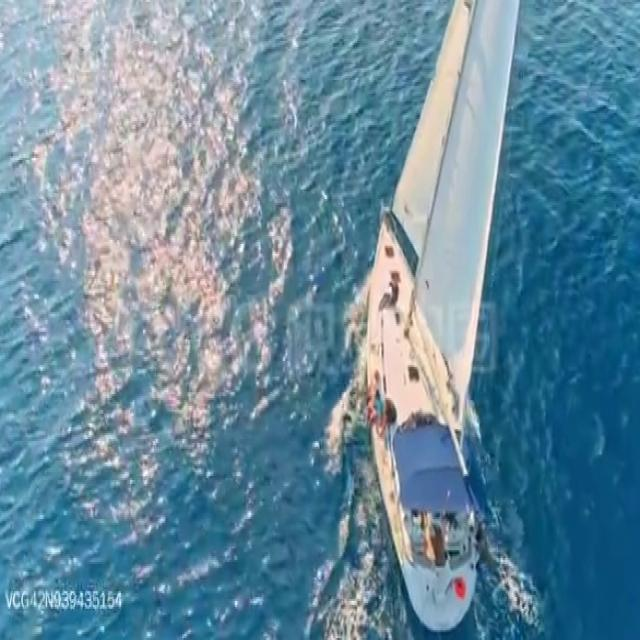sailboat: (346, 0, 534, 636)
